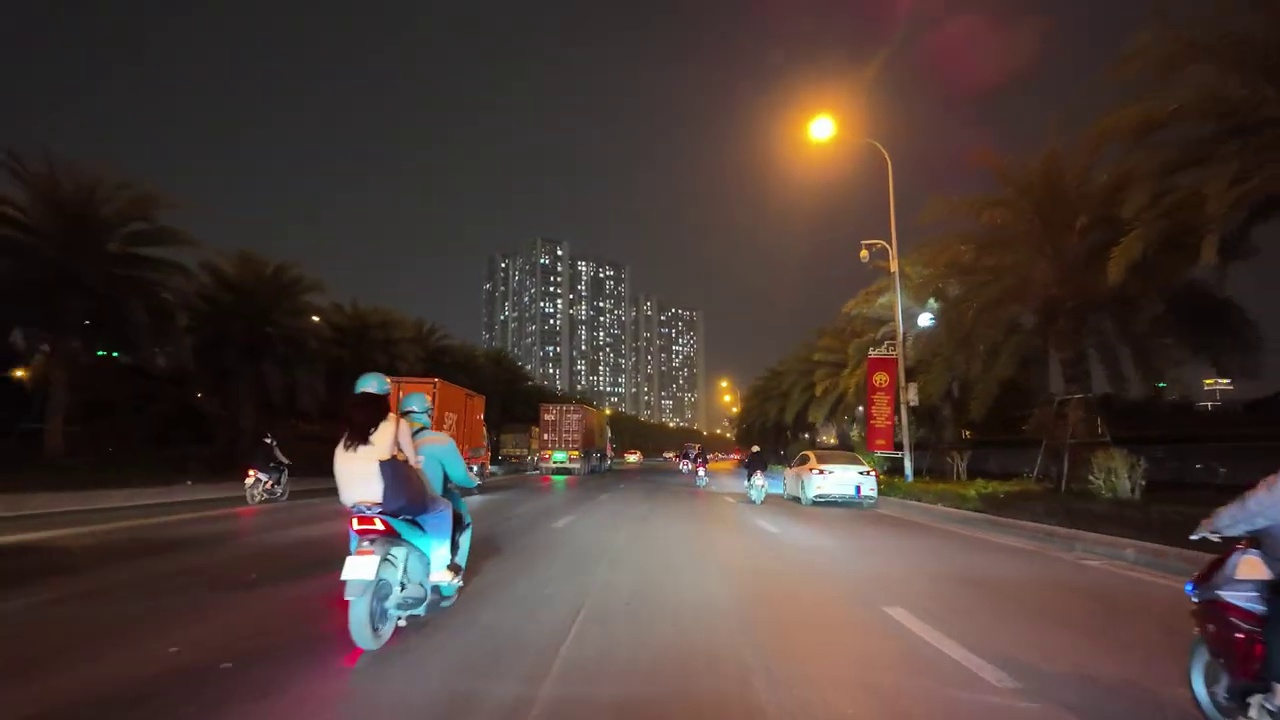acesa: (794, 106, 847, 157), (713, 379, 740, 412)
